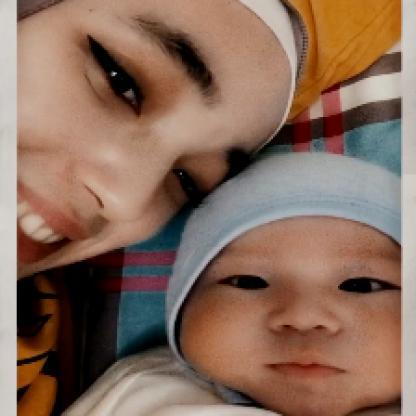child: (57, 152, 404, 416)
